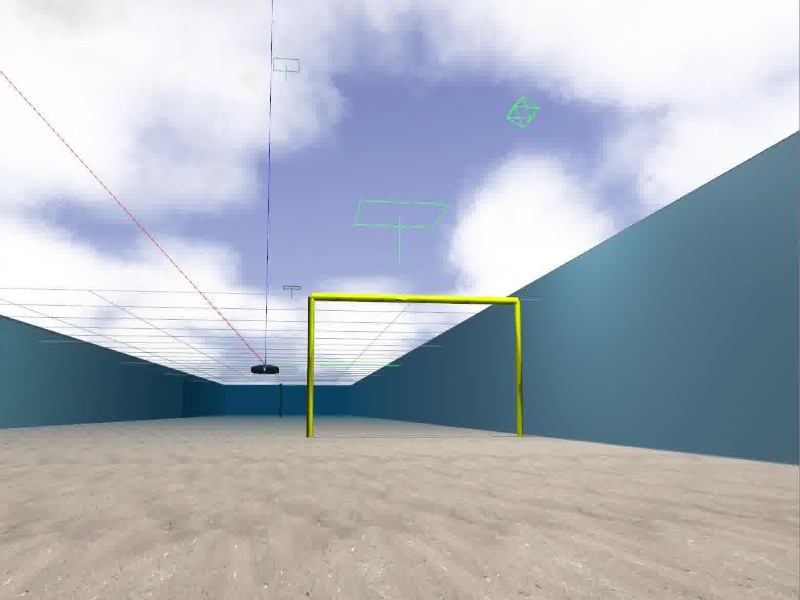gate: (307, 290, 524, 436)
